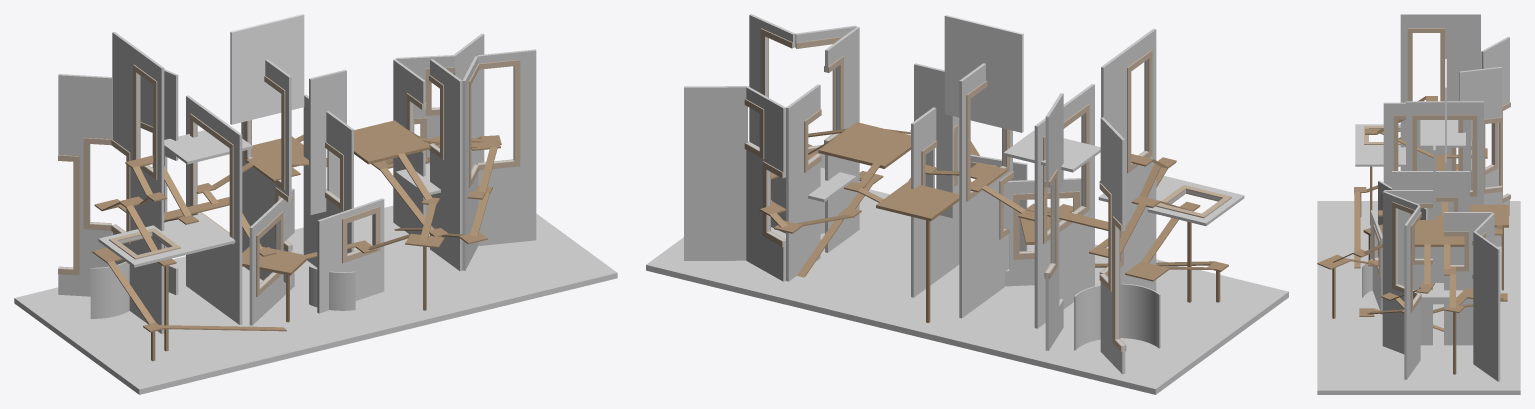
The picture shows the model from 3 angles, left to right: view 1: azimuth 30°, elevation 25°; view 2: azimuth 150°, elevation 25°; view 3: azimuth 270°, elevation 25°; orthographic projection. The views are drawn at different scales.
Visible parts, largest first — view 1: dizuo, 对象004, 对象008, 对象007, lujing; view 2: dizuo, 对象007, 对象004, 对象008, lujing; view 3: dizuo, 对象007, 对象004, 对象008, lujing.
Part boxes in pixels (box(x1,y1,x2,y2)): dizuo: box(14, 205, 617, 394); 对象004: box(58, 31, 252, 333); 对象008: box(230, 14, 384, 325); 对象007: box(393, 33, 536, 270); lujing: box(92, 120, 501, 361); dizuo: box(646, 189, 1288, 394); 对象007: box(684, 14, 859, 281); 对象004: box(1003, 28, 1244, 374); 对象008: box(911, 15, 1081, 318); lujing: box(759, 122, 1228, 322); dizuo: box(1317, 201, 1520, 394); 对象007: box(1382, 190, 1500, 381); 对象004: box(1355, 14, 1510, 246); 对象008: box(1362, 59, 1483, 310); lujing: box(1317, 96, 1508, 374).
Bounding box in the file's own units: 9.23 × 5 × 4.18.
